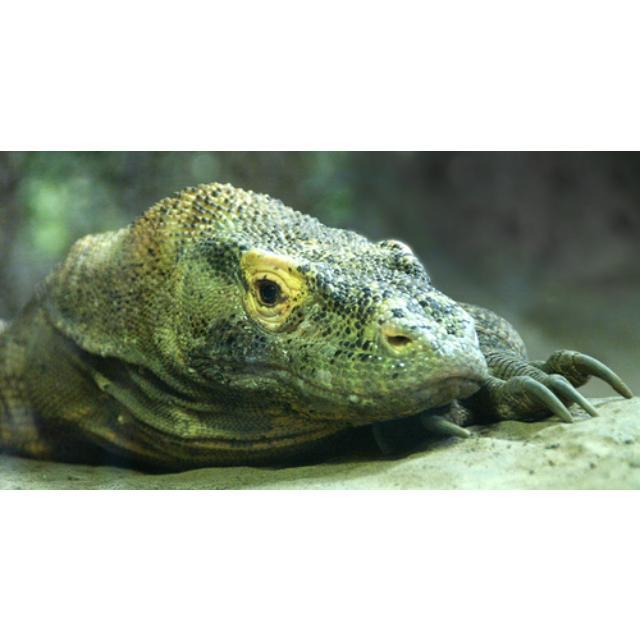KomodoDragon: (0, 176, 634, 466)
